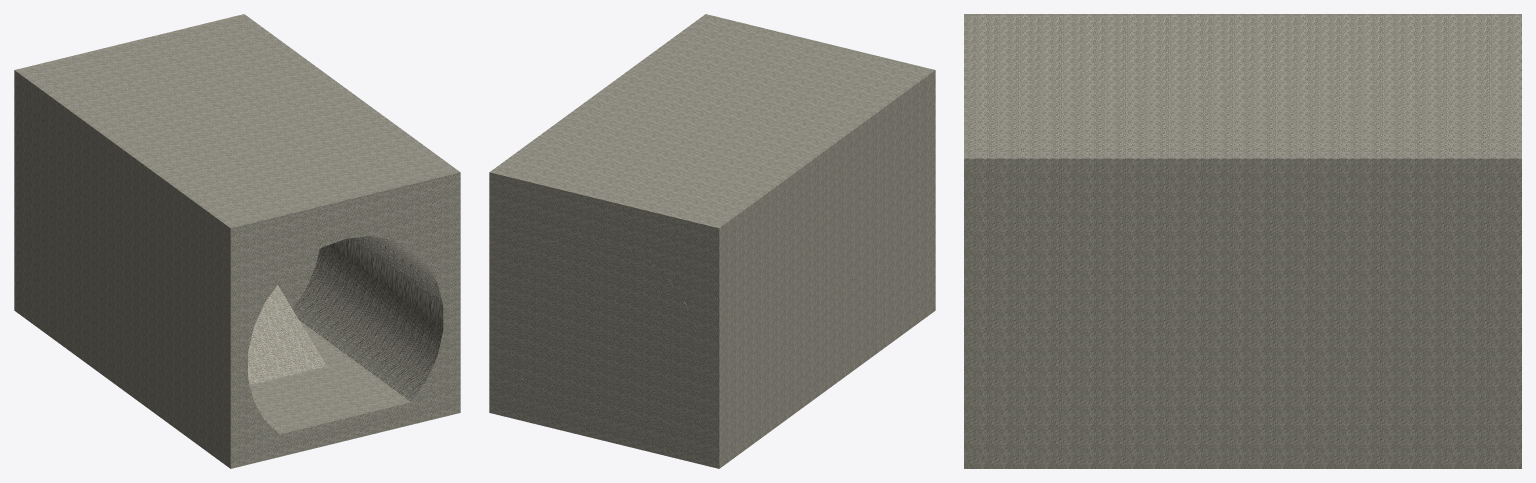
Rendered from ExcavThreeStepPreserveCore9.glb.
The picture shows the model from 3 angles, left to right: view 1: azimuth 30°, elevation 25°; view 2: azimuth 150°, elevation 25°; view 3: azimuth 270°, elevation 25°; orthographic projection. The views are drawn at different scales.
Bounding box in the file's own units: 16 × 16 × 26.08.
1 material, 1 textured.
